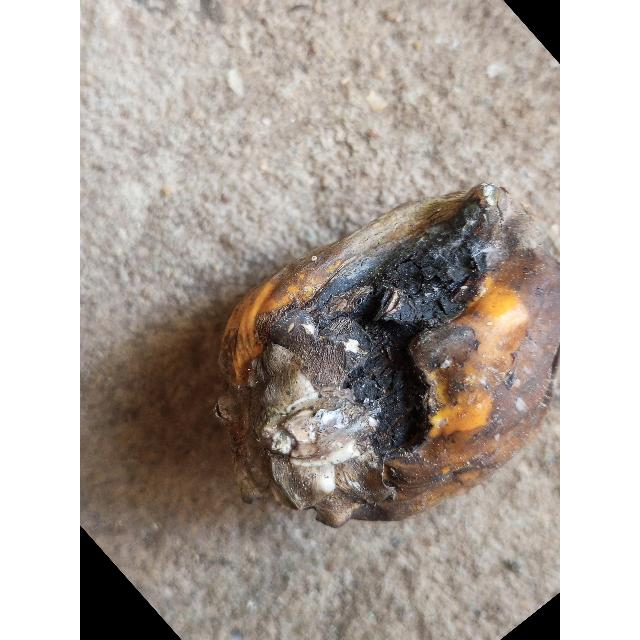damaged: (211, 187, 560, 530)
